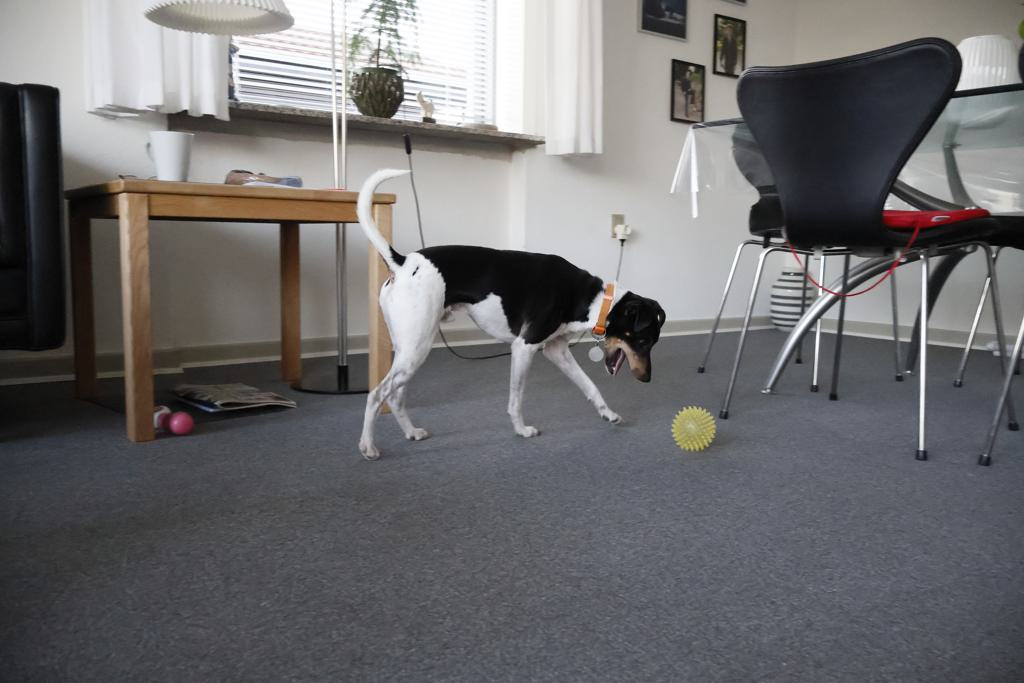Dog: (350, 161, 674, 466)
